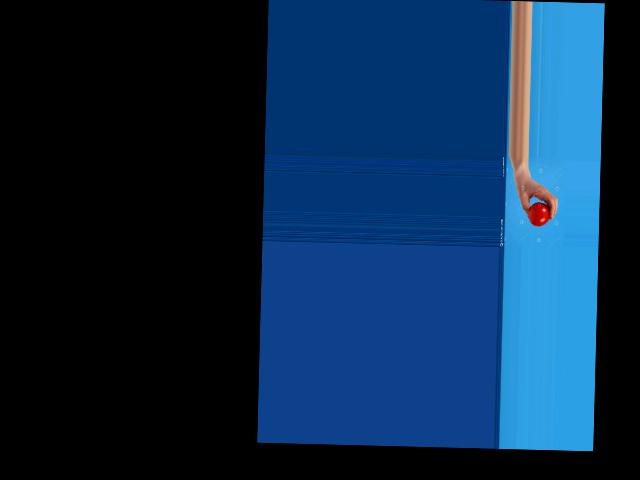tomato: (528, 201, 550, 226)
